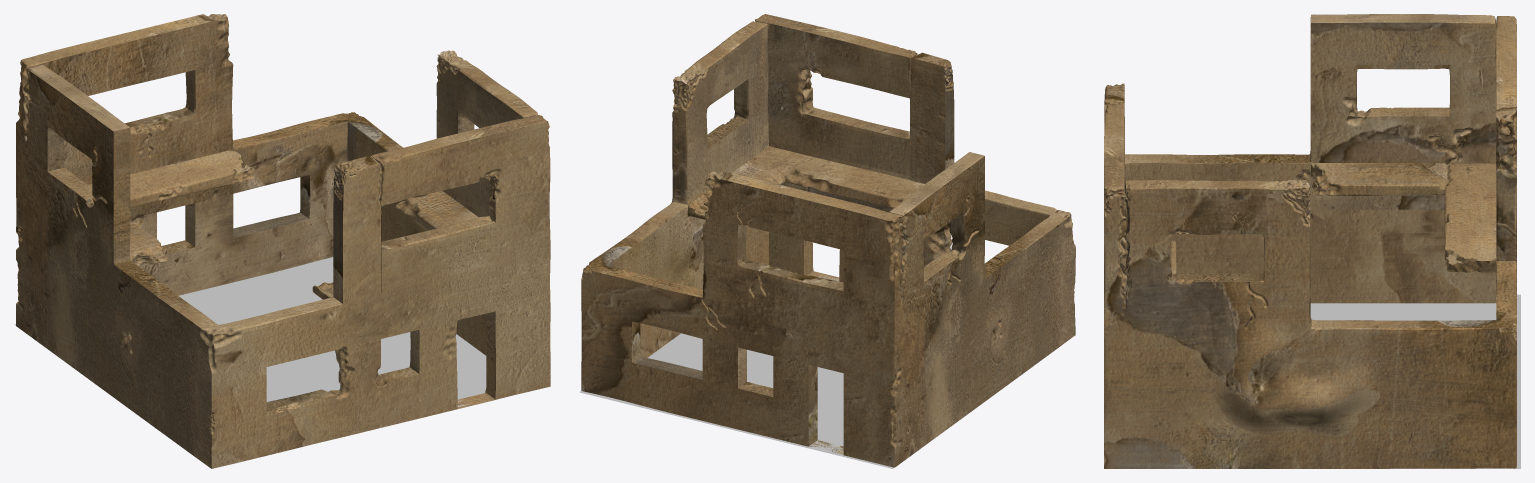
File: House1 — к.obj
3 views of the same model, side by side, from view 1: azimuth 30°, elevation 25°; view 2: azimuth 150°, elevation 25°; view 3: azimuth 270°, elevation 25° (orthographic). The views are drawn at different scales.
Visible parts, largest first — view 1: Plane, Plane.001; view 2: Plane, Plane.001; view 3: Plane, Plane.001.
Part boxes in pixels (x1,y1,x2,y2): Plane: (16, 14, 550, 468); Plane.001: (14, 257, 486, 407); Plane: (581, 14, 1075, 467); Plane.001: (579, 274, 893, 468); Plane: (1104, 14, 1516, 468); Plane.001: (1310, 294, 1520, 468).
Bounding box in the file's own units: 0.8276 × 0.5999 × 0.8079.
